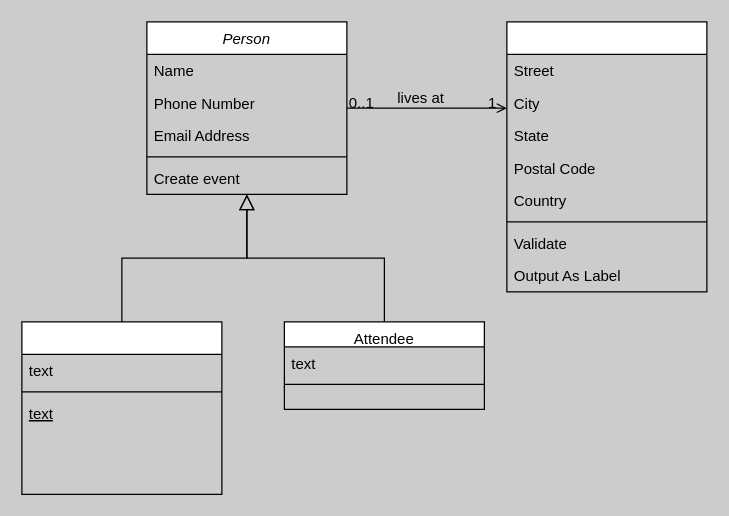
Some shapes in this 729 by 516 pixel diagram are drawn without their labels. The shapes that lost their labels are listed below. From the top down, each one's box as (x1, y1, x2, y2) in pixels, then its label:
(506, 21, 707, 292): Address
(21, 321, 222, 494): Organizer
